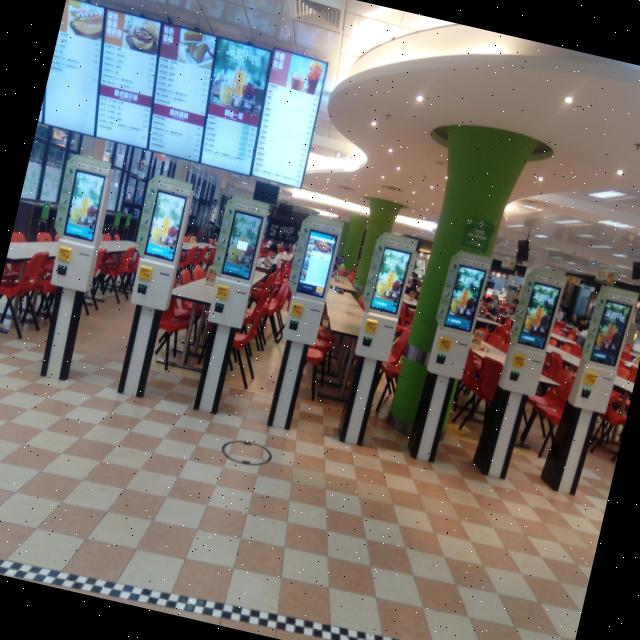orderKiosk: (46, 165, 112, 294), (126, 186, 192, 310), (206, 203, 268, 329), (354, 238, 416, 362), (573, 290, 635, 412), (281, 223, 342, 345), (504, 275, 564, 395), (429, 259, 488, 377)
